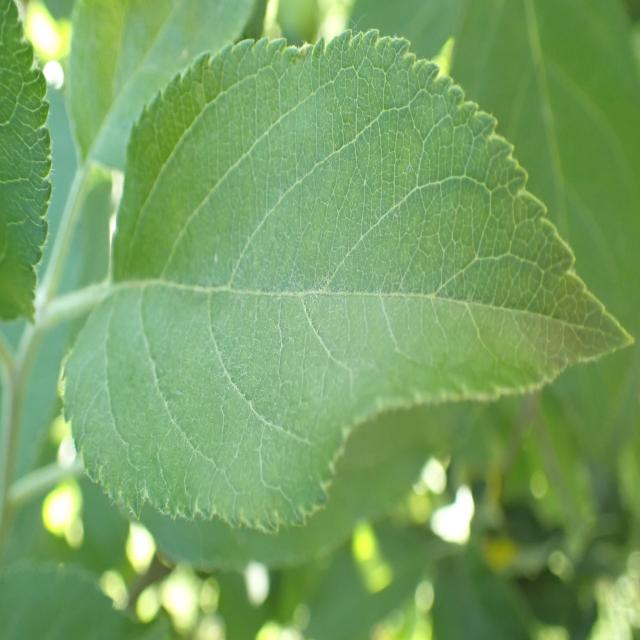healthy: (60, 29, 636, 532), (68, 0, 266, 175), (0, 1, 54, 327)
